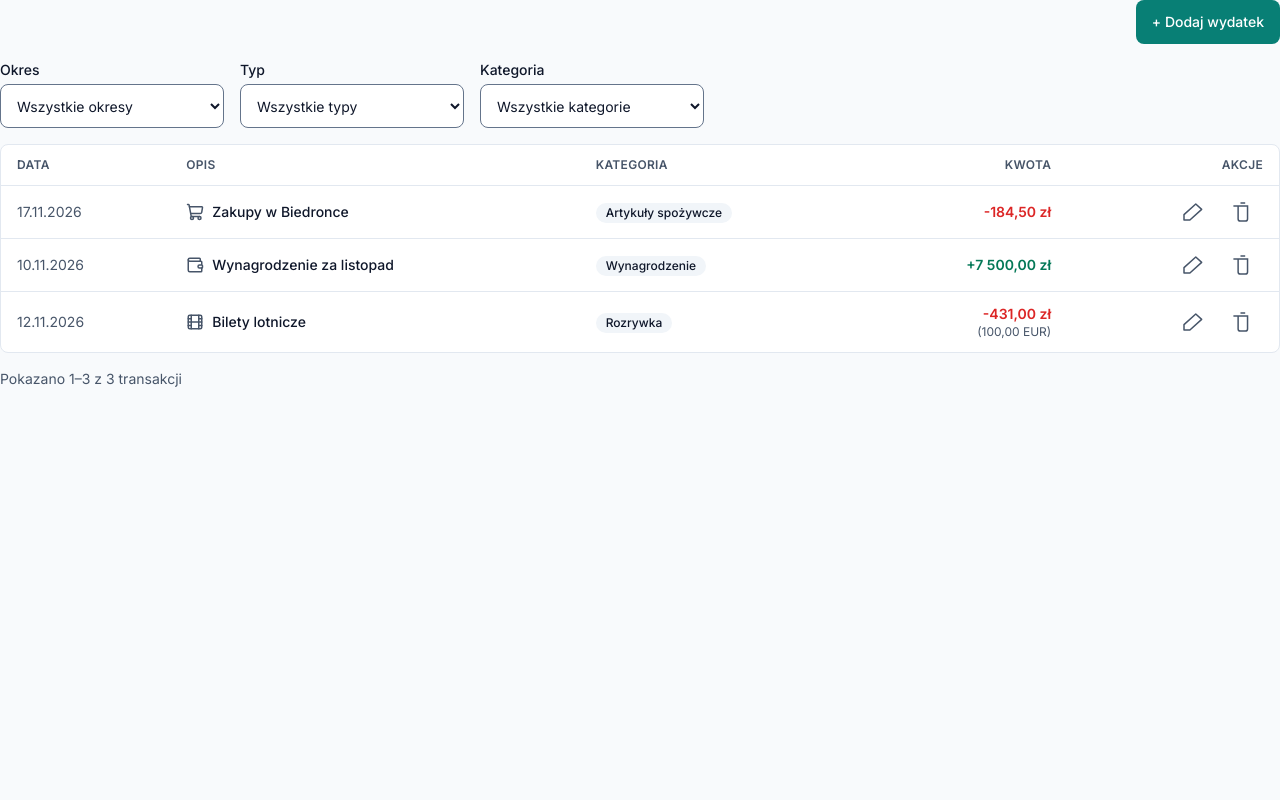
TransactionsView › deleting a transaction › deletes, closes the dialog, reloads the list, shows the toast and focuses the add button
Click the button named "Usuń transakcję: Zakupy w Biedronce, 17.11.2026" at (1241, 212), box [1219, 190, 1263, 234]
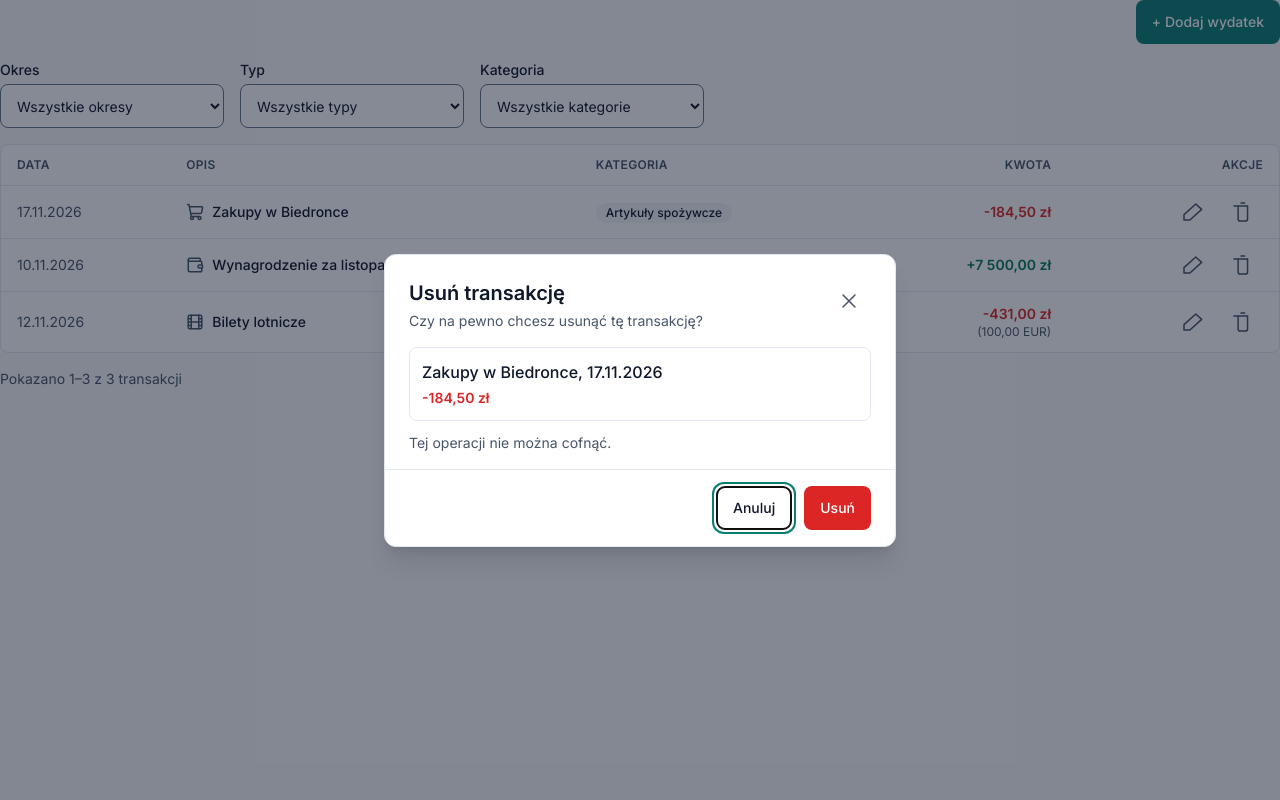
Click the button "Usuń" at (838, 508), box [804, 486, 871, 530]
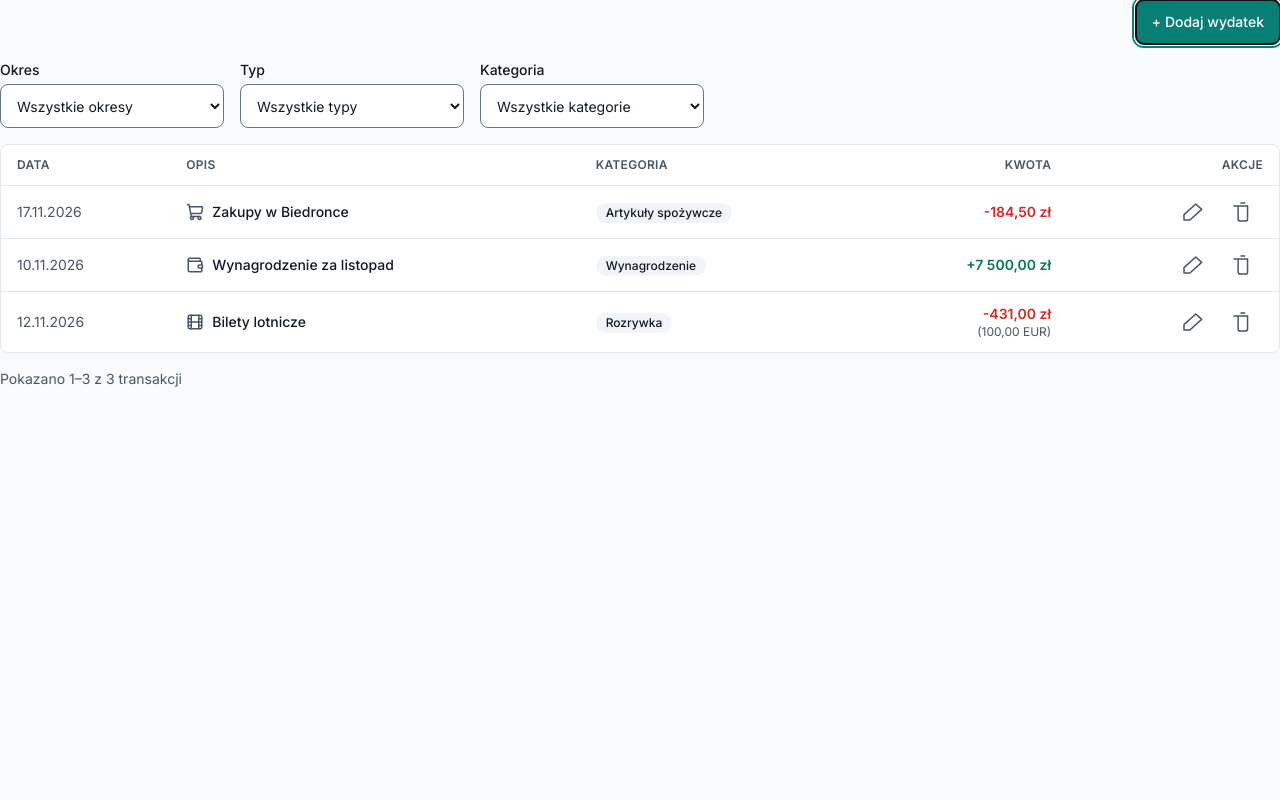
Expected: the dialog is gone
